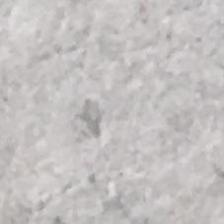Non_Crack: (17, 15, 219, 221)
